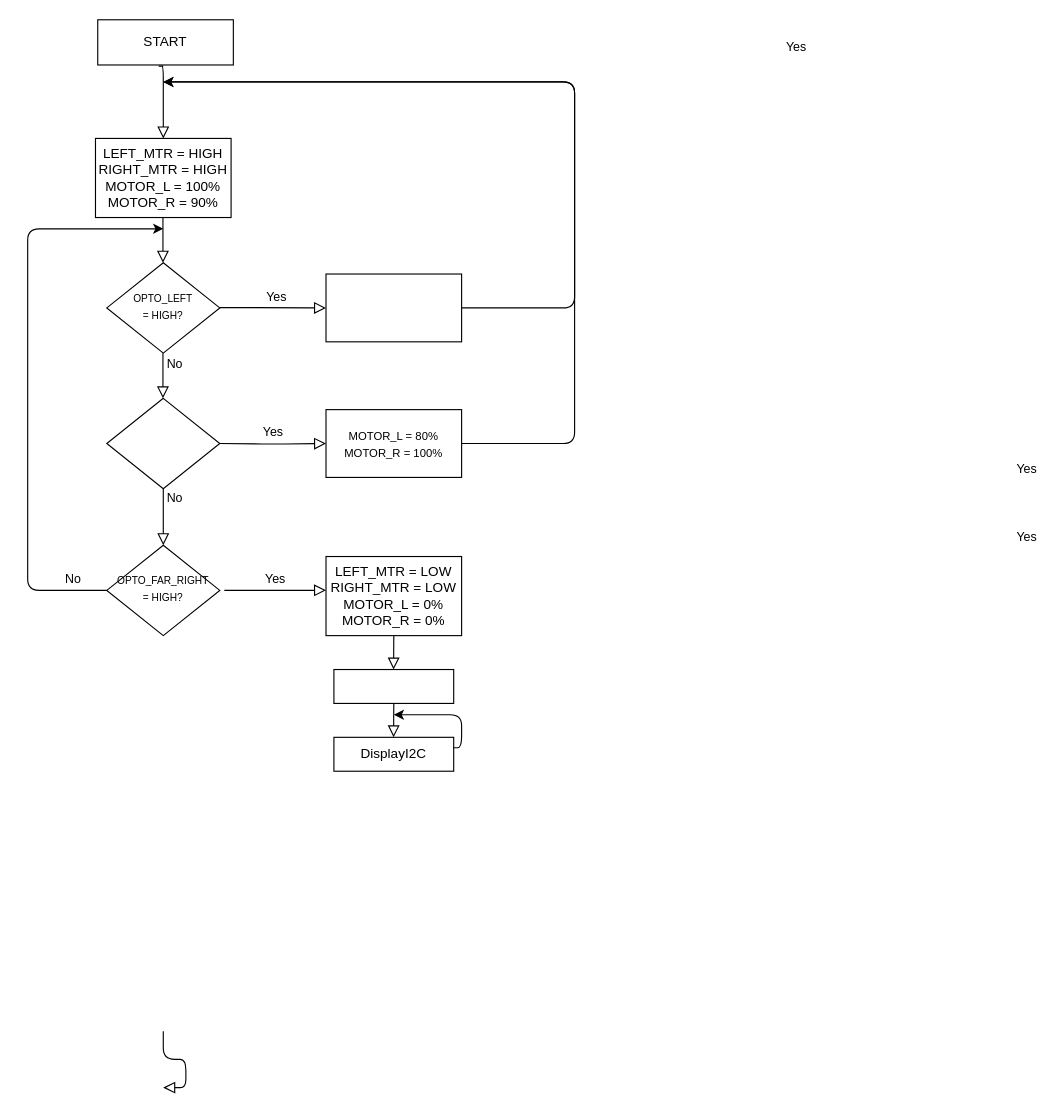
This 1057x1119 diagram has some shape labels left out. Each missing label, with the box of its shape:
delay(450): (333, 668, 454, 703)
MOTOR_L = 100% MOTOR_R = 80%: (325, 273, 462, 342)
OPTO_RIGHT = HIGH?: (106, 397, 220, 489)
